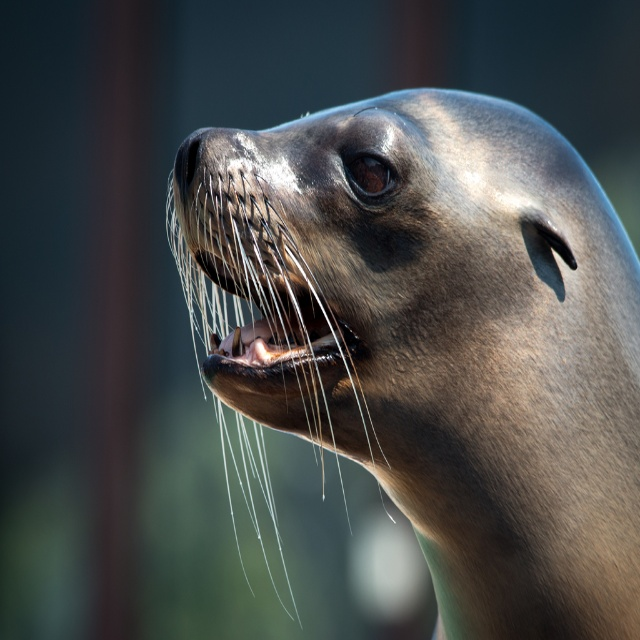Sea lion: (166, 88, 639, 639)
